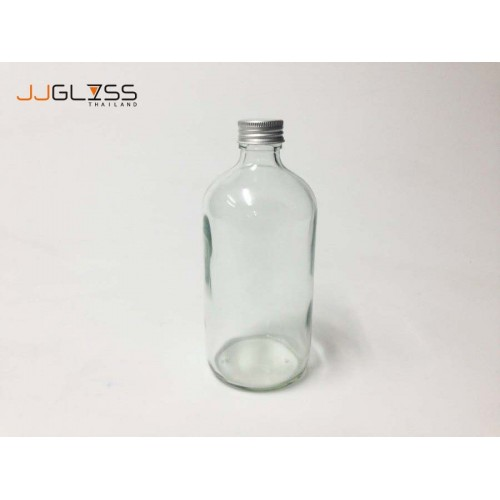glass_bottle: (196, 111, 323, 400)
